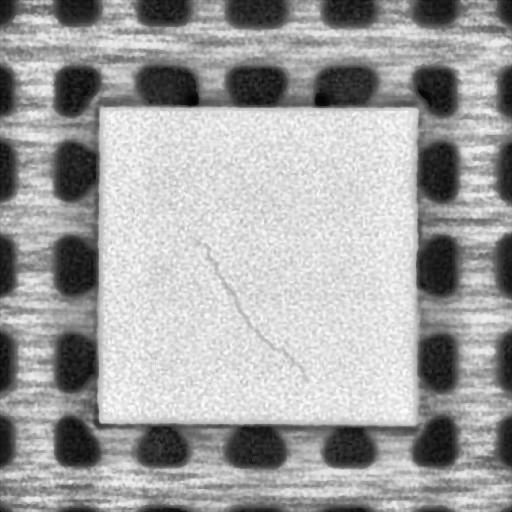DIE_CRACK: (191, 234, 307, 381)
